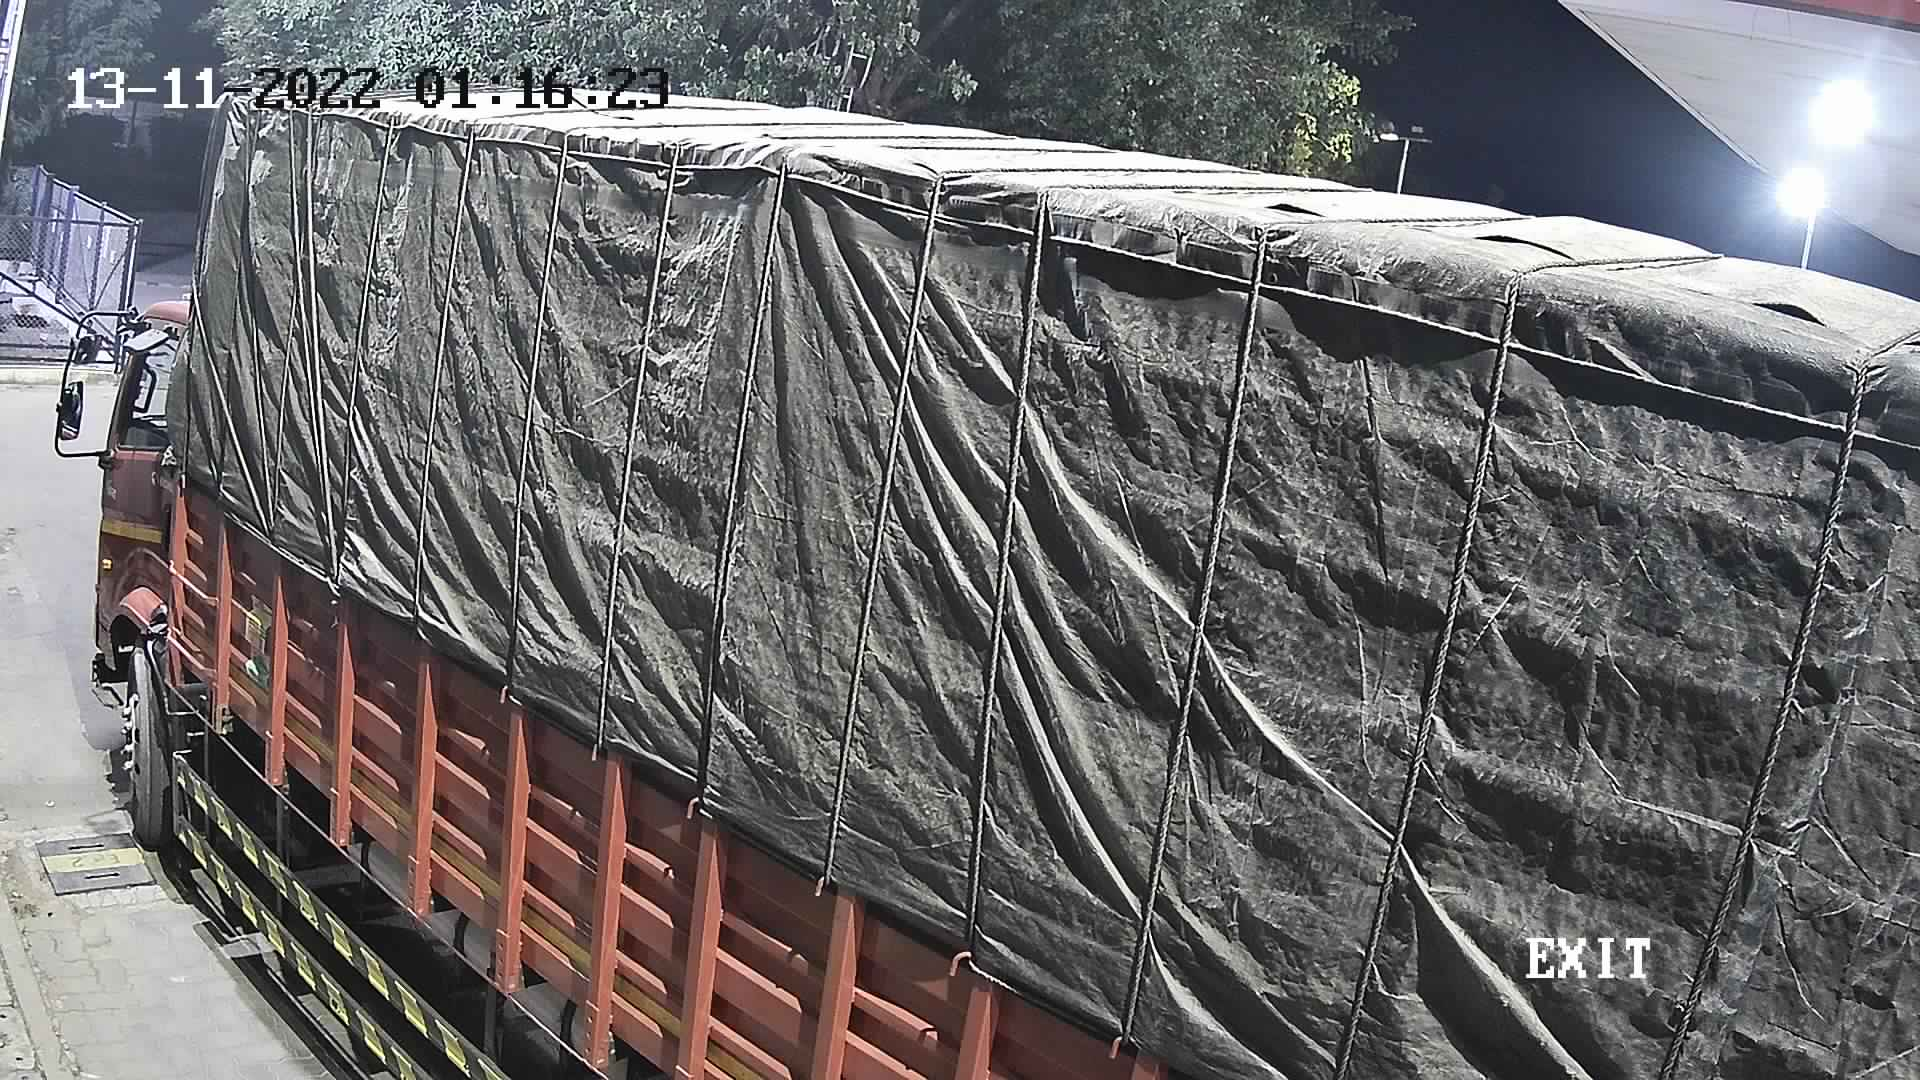HMV: (43, 67, 1917, 1076)
